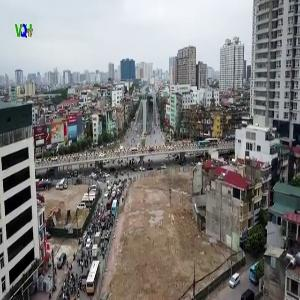drone: (170, 77, 234, 141)
